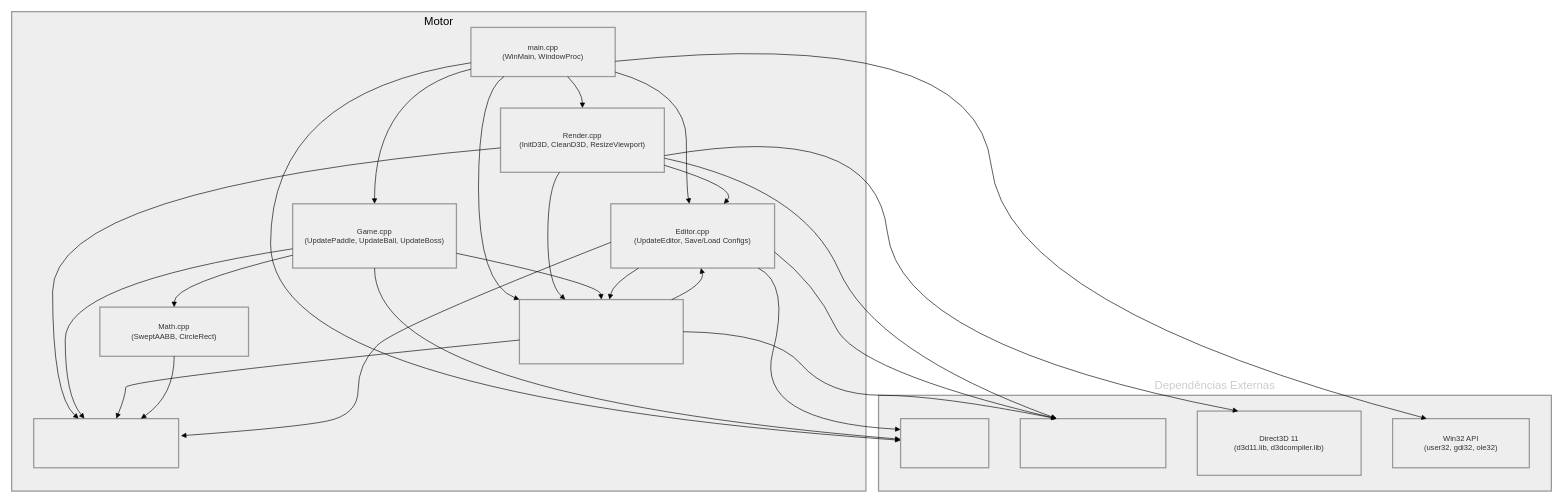
This 1562x502 diagram has some shape labels left out. Each missing label, with the centre of its shape:
Dear ImGui (imgui/): the point at 944,443
DirectXTK (SpriteBatch, WIC, DDS): the point at 1092,443
Globals.cpp / Globals.h (estado compartilhado): the point at 106,443
Level.cpp (LoadStageJSON, PopulateGameplay): the point at 601,331
